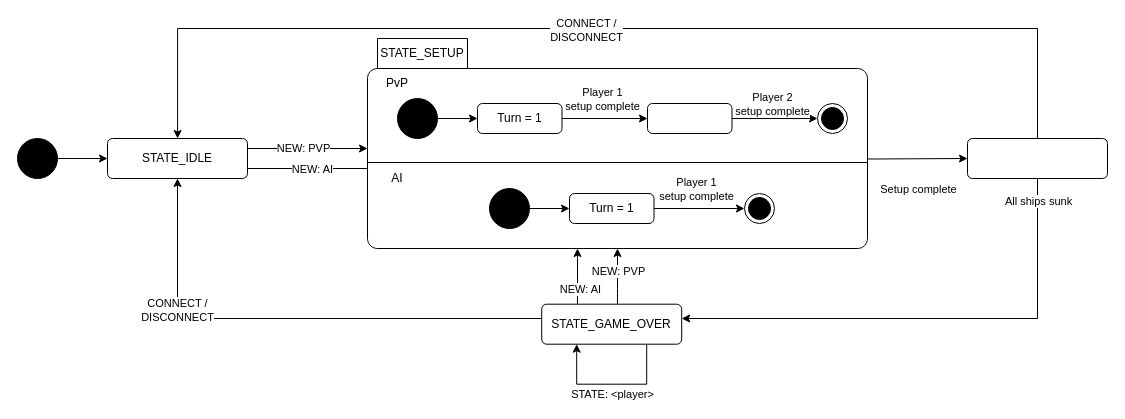
Image size: 1125x419. Some labels were removed from this diagram. Here are the shapes that lost their labels. From the top down, the centre of each, then its label:
At point 689,118: "Turn = 2".
At point 1037,158: "STATE_IN_PROGRESS".
